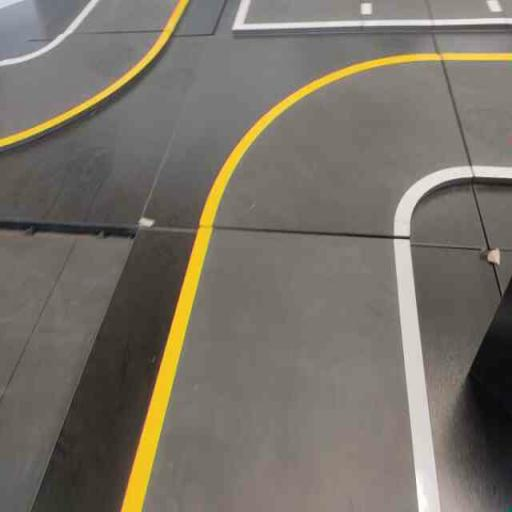straight: (114, 240, 451, 488)
